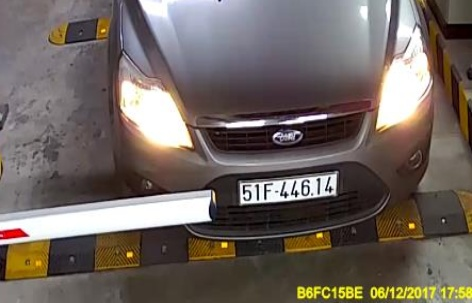plate: (233, 168, 344, 207)
